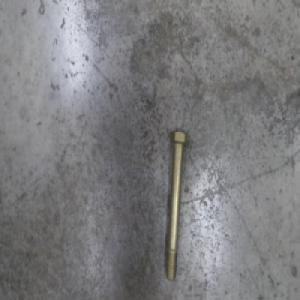Bolt: (164, 128, 189, 281)
